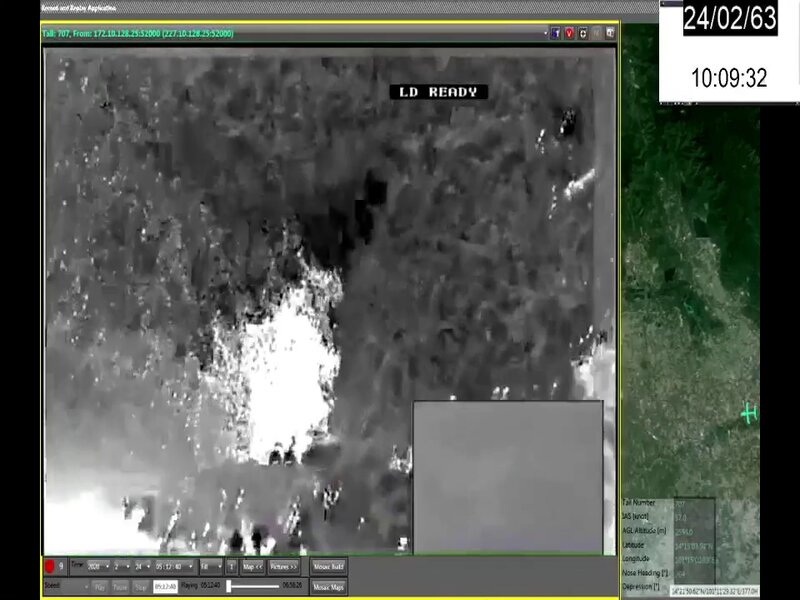Fire: (211, 268, 342, 469)
